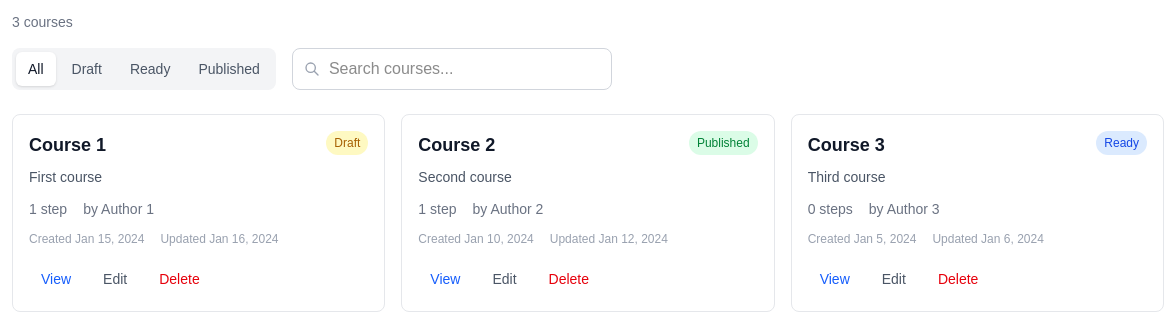
Test case: CourseList › Status Filter › should filter by published status
What coordinates should you click on to do the following:
click the button "Published"
I would click on:
 (229, 69)
Its box is [186,52,272,86].
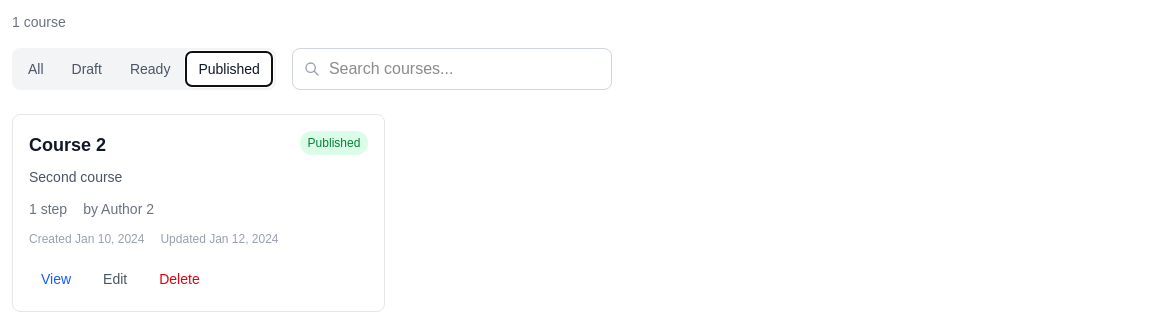
Check: the heading "Course 2" is shown, box [29,131,106,159]
Check: the heading "Course 3" is gone
